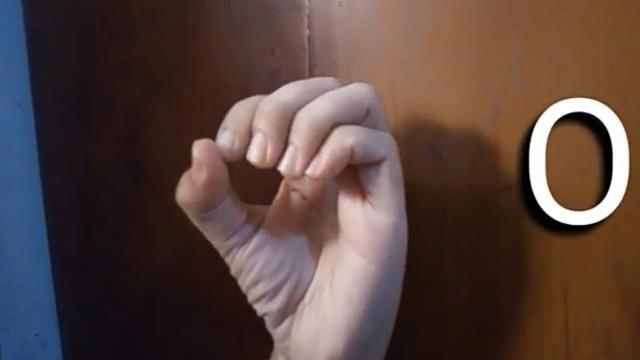O: (170, 68, 414, 360)
